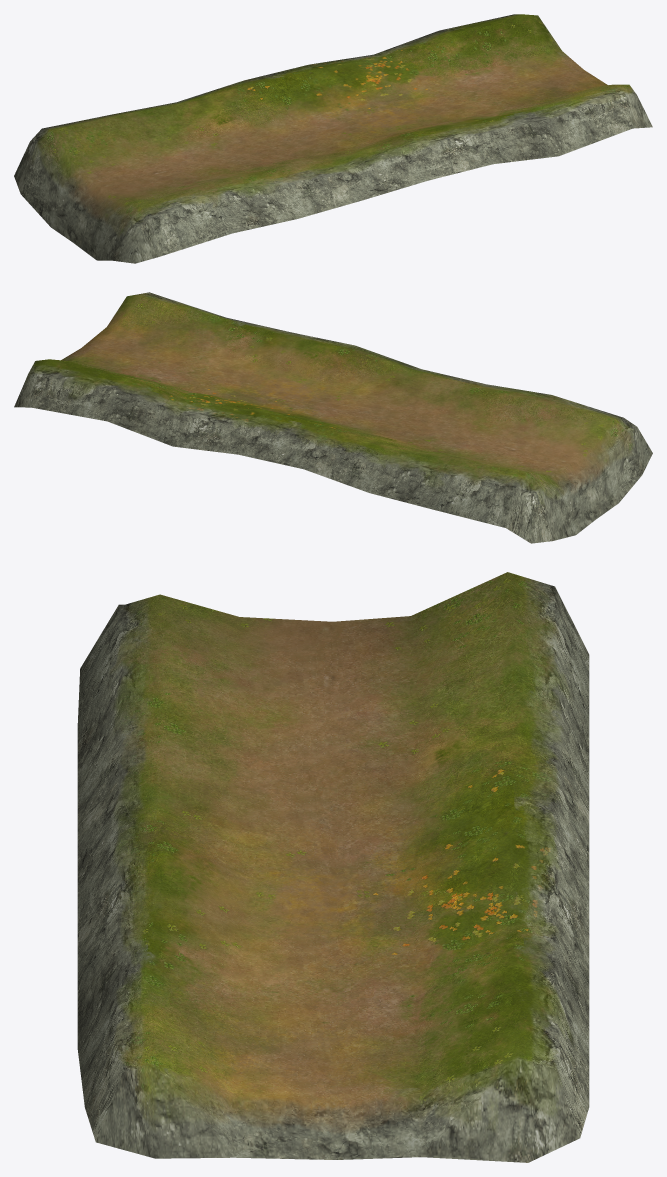
File: ground_mobile2.FBX
3 views of the same model, one above another, from view 1: azimuth 30°, elevation 25°; view 2: azimuth 150°, elevation 25°; view 3: azimuth 270°, elevation 25° (orthographic). The views are drawn at different scales.
Visible parts, largest first — view 1: Plane002; view 2: Plane002; view 3: Plane002.
Part boxes in pixels (box(x1,y1,x2,y2)): Plane002: box(14, 14, 652, 263); Plane002: box(14, 292, 652, 543); Plane002: box(77, 572, 589, 1162).
Bounding box in the file's own units: 138 × 18.63 × 57.67.
